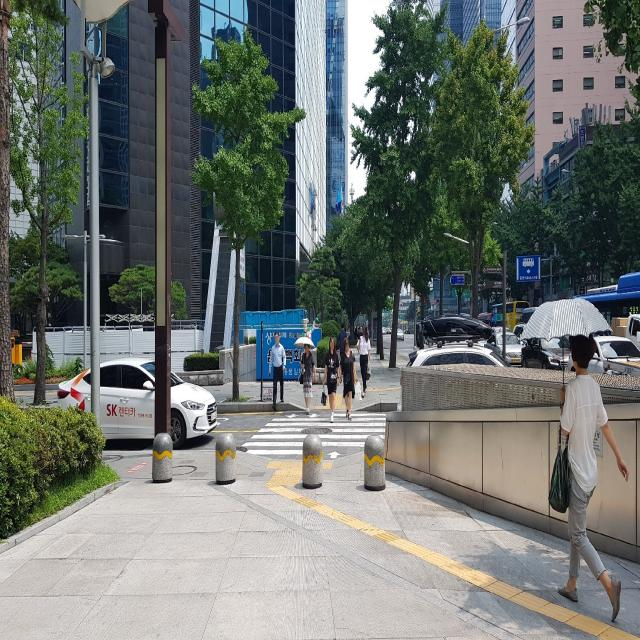횡단보도: (241, 413, 387, 459)
